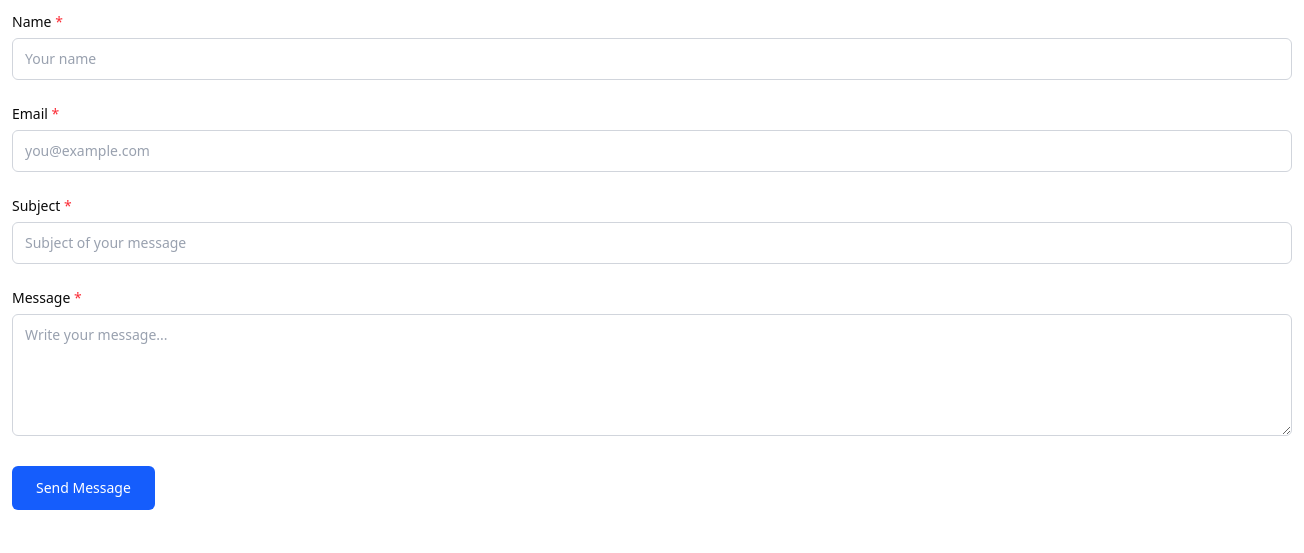
ContactForm › shows email validation error for invalid email
The width and height of the screenshot is (1304, 553).
Type "John Doe" into the field labelled "Name *" at (652, 59), box [12, 38, 1292, 80]
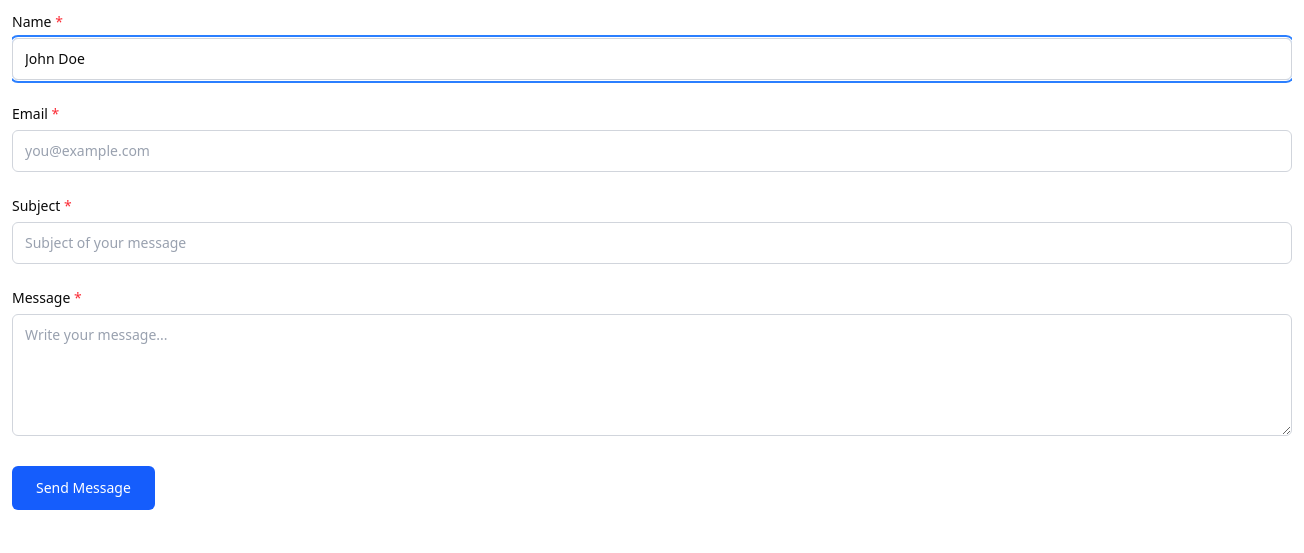
Type "not-an-email" into the field labelled "Email *" at (652, 151), box [12, 130, 1292, 172]
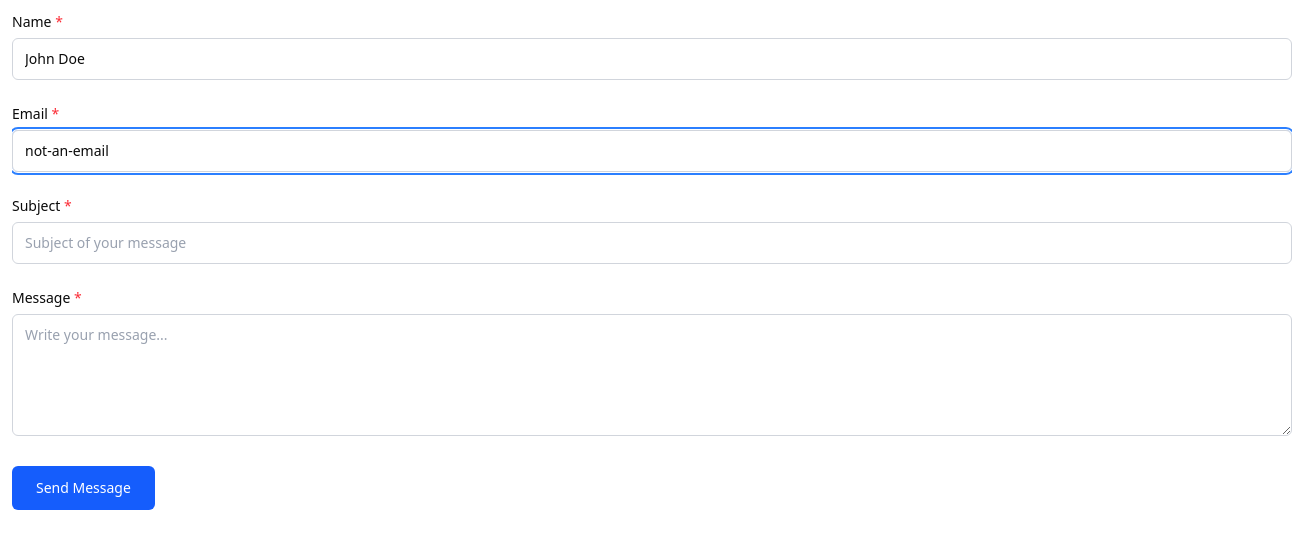
Type "Test Subject" into the field labelled "Subject *" at (652, 243), box [12, 222, 1292, 264]
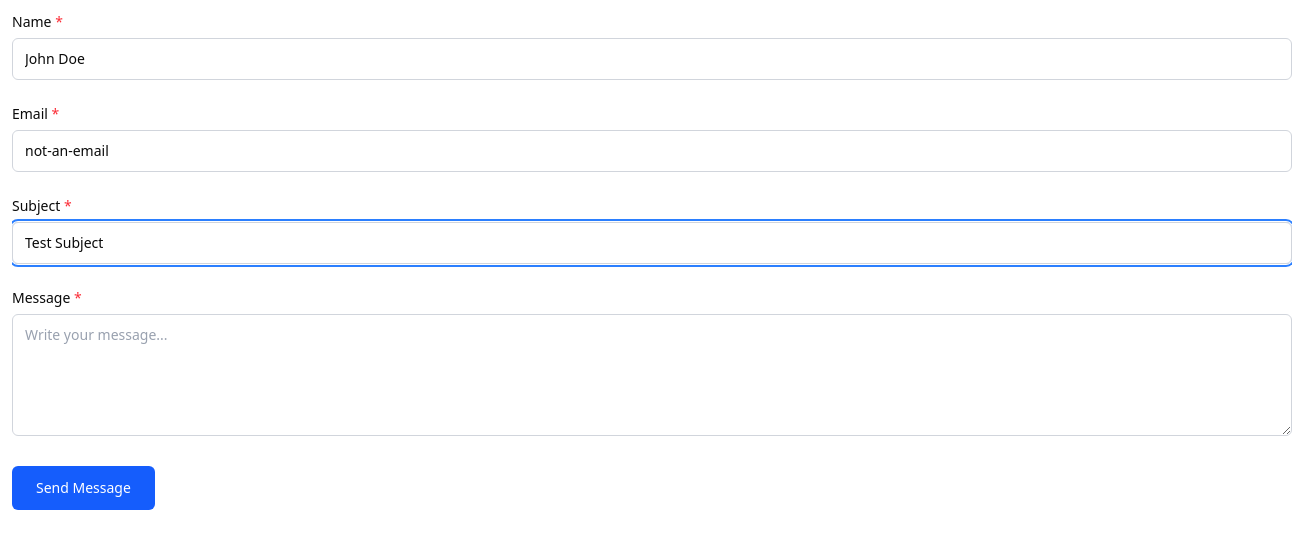
Type "This is a test message with enough characters." into the text box labelled "Message *" at (652, 375), box [12, 314, 1292, 436]
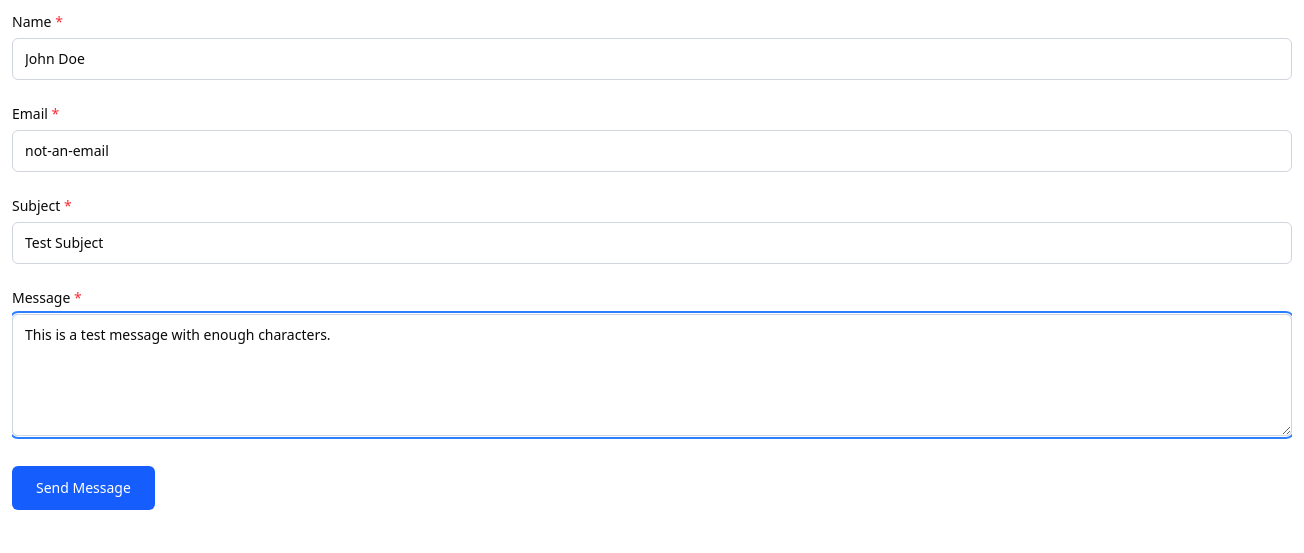
Click the button "Send Message" at (83, 488), box [12, 466, 155, 510]
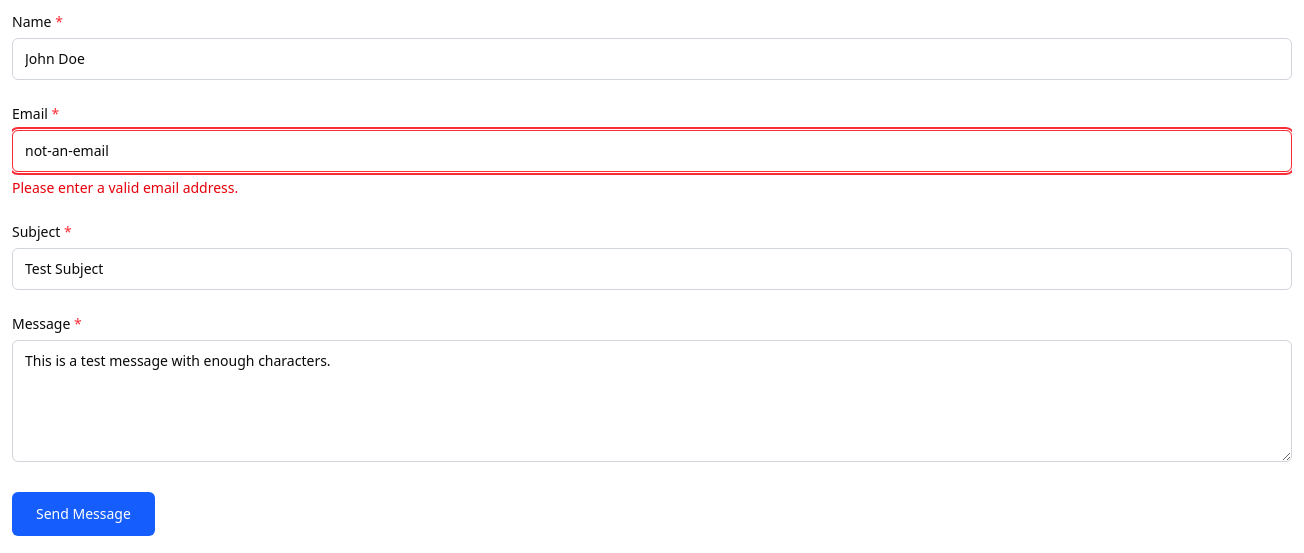
Now the text "Please enter a valid email address." is shown, box [12, 178, 238, 197]
